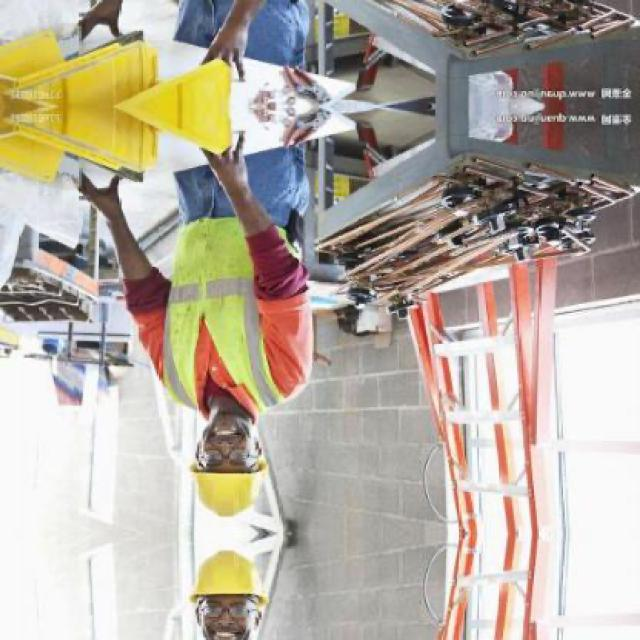con casco: (148, 374, 308, 533)
